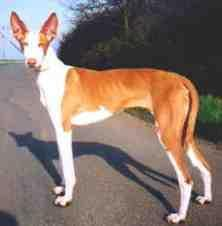Ibizan_hound: (8, 11, 213, 223)
